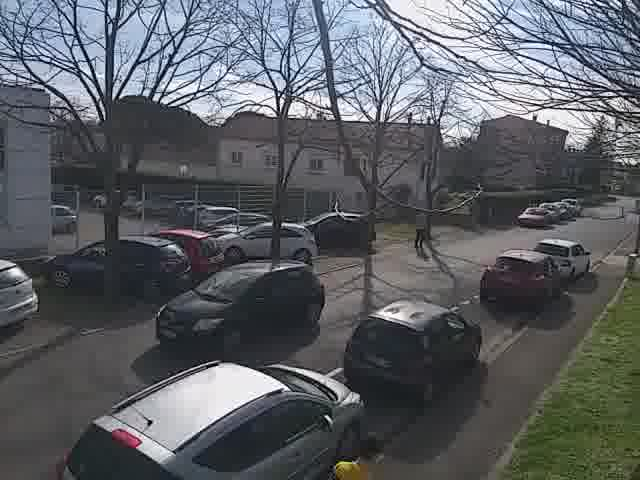persona: (410, 200, 430, 251)
